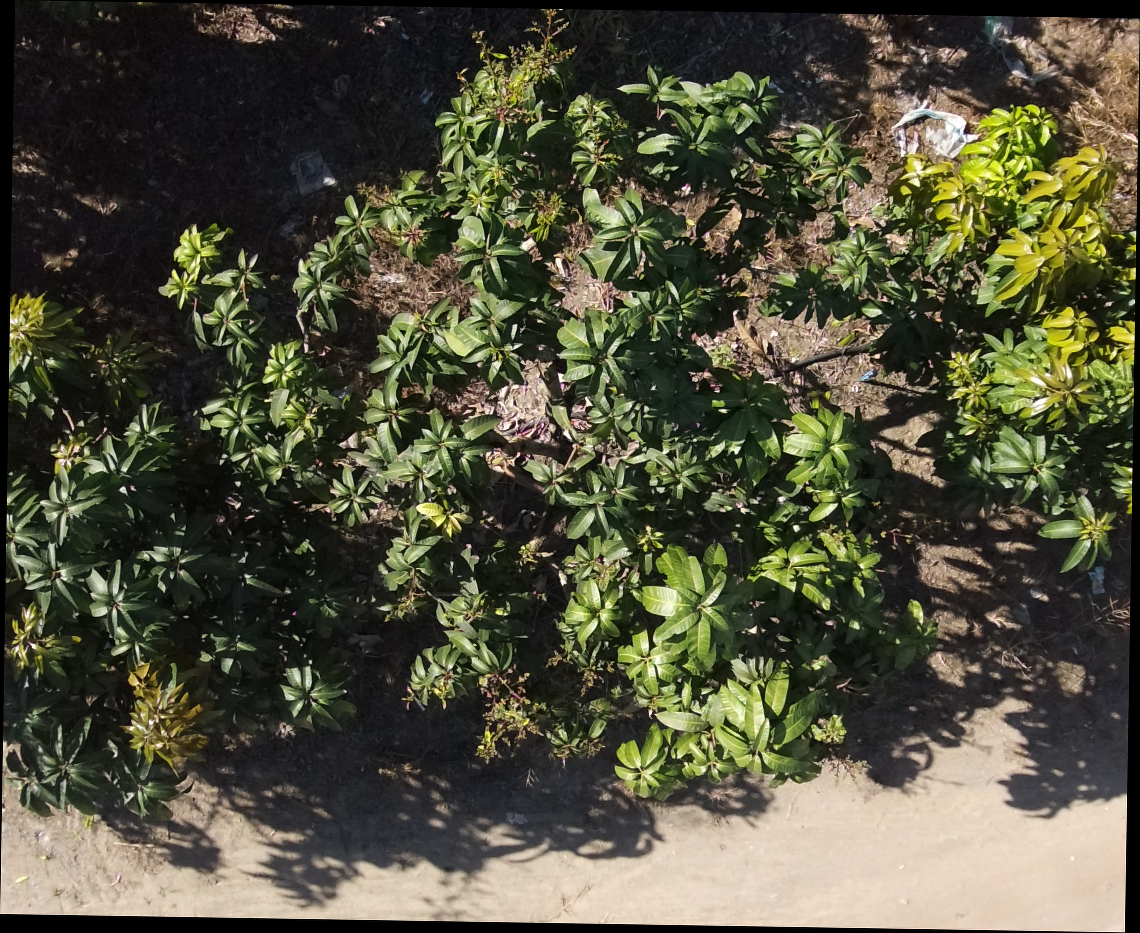flowers: (477, 667, 547, 761), (532, 190, 566, 236), (559, 220, 594, 261), (811, 714, 848, 744), (355, 182, 392, 208)
